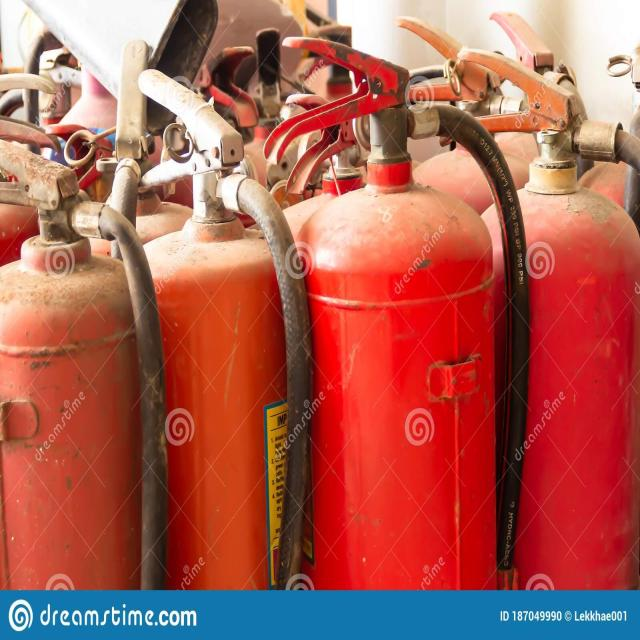fire_extinguisher: (260, 31, 532, 589), (116, 65, 328, 591), (436, 45, 640, 586), (1, 130, 195, 590)
